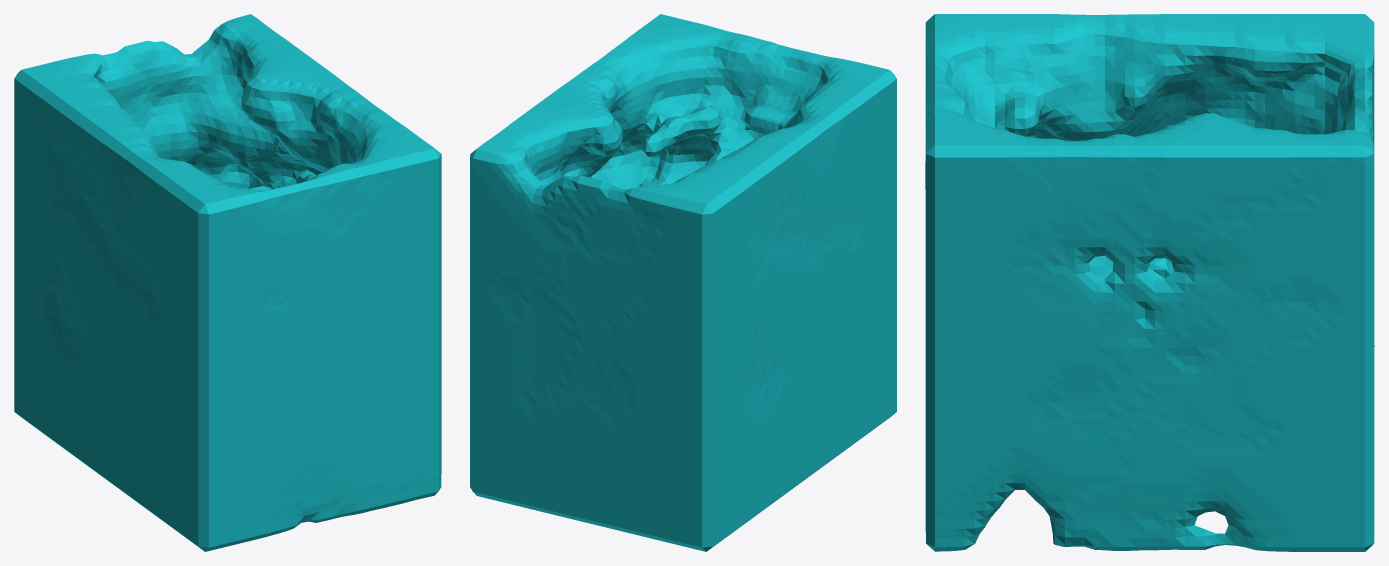
3 renders of one model, left to right at view 1: azimuth 30°, elevation 25°; view 2: azimuth 150°, elevation 25°; view 3: azimuth 270°, elevation 25°, orthographic. The views are drawn at different scales.
Parts seen in each view (by area): view 1: Liquid_Domain; view 2: Liquid_Domain; view 3: Liquid_Domain.
Part boxes in pixels (x1,y1,x2,y2): Liquid_Domain: [14, 14, 441, 551]; Liquid_Domain: [470, 14, 896, 551]; Liquid_Domain: [925, 14, 1374, 551].
Size of the model in its own units: 79.1 by 108 by 108.
